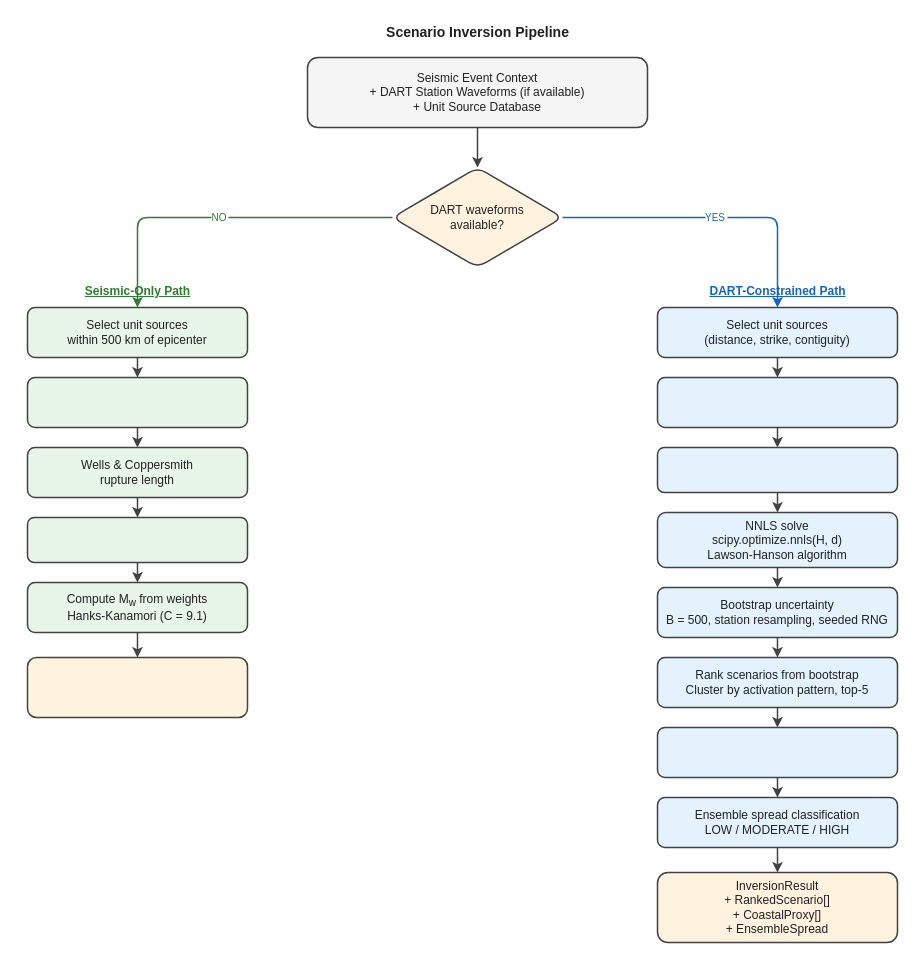
This 915x960 diagram has some shape labels left out. Here are the shapes that lost their labels. From the top down, the centre of each, then its label:
the point at 137,402: Magnitude-based slip scaling slip = 10 (a · M w + b)
the point at 777,402: Build observation vector d (concatenated station waveforms)
the point at 777,469: Build Green’s function matrix H
the point at 137,539: Gaussian taper weighting
the point at 137,687: InversionResult “Seismic-only estimate. High uncertainty.”
the point at 777,752: Coastal amplitude proxies P10 / P50 / P90 per site
